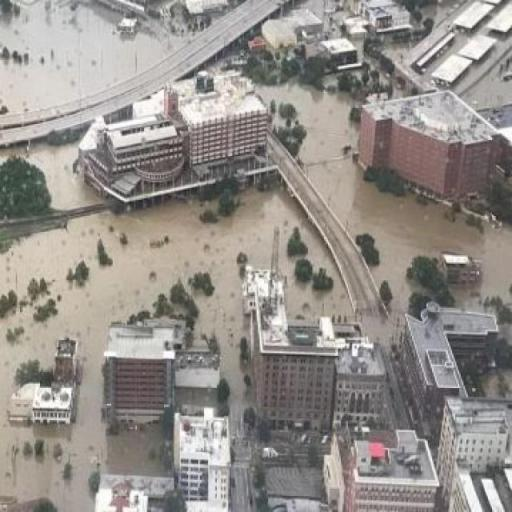flood: (0, 187, 353, 512), (257, 84, 512, 314), (0, 0, 186, 113), (25, 142, 103, 209), (0, 148, 24, 160)
house: (80, 88, 272, 210), (356, 94, 502, 207), (245, 272, 336, 418), (401, 303, 505, 400), (339, 424, 446, 510), (174, 411, 236, 505), (439, 400, 511, 469), (13, 368, 81, 430), (104, 320, 187, 370), (464, 470, 508, 512), (367, 0, 411, 40), (318, 38, 360, 75), (263, 20, 299, 52)
